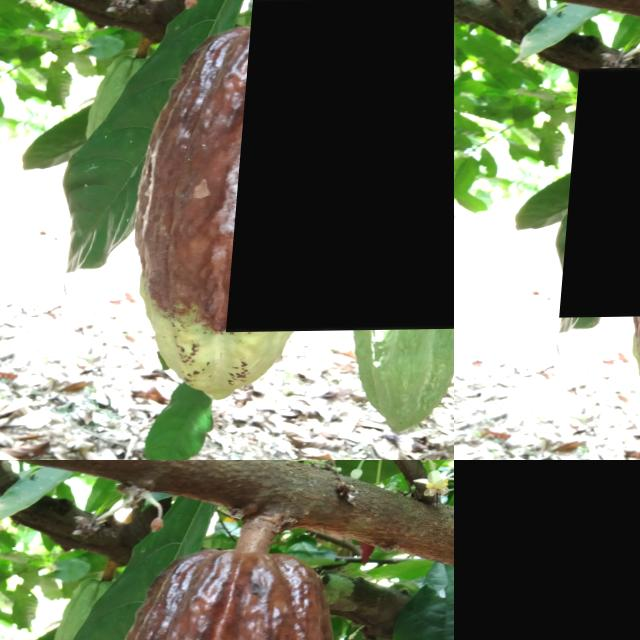Fitoftora: (454, 460, 640, 640)
Sana: (234, 0, 454, 333), (565, 66, 640, 318), (145, 490, 187, 553), (120, 460, 172, 491), (203, 481, 236, 529), (54, 496, 105, 521)
